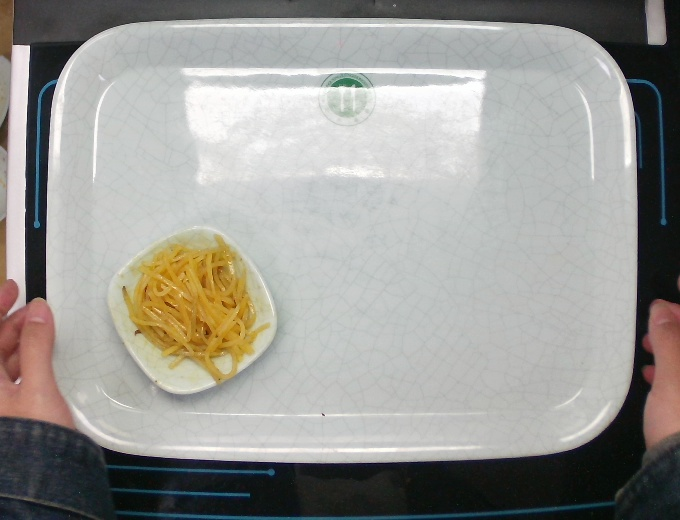JYsf-Si_Fang_Die: (102, 221, 278, 399)
